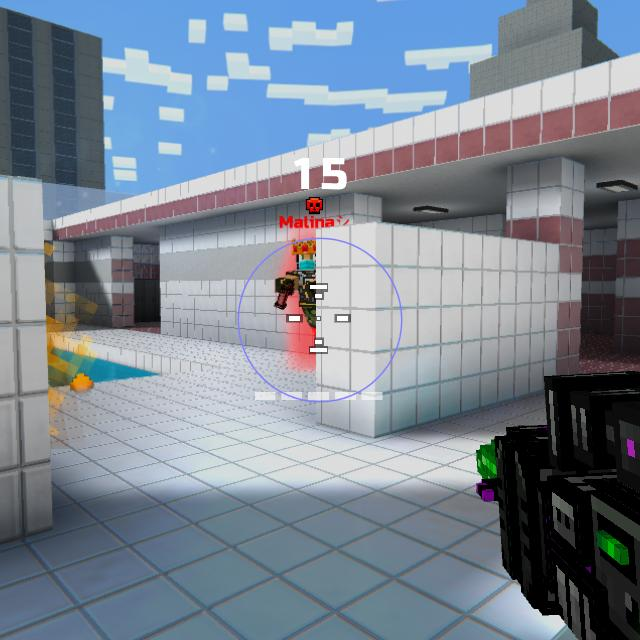Enemy: (276, 238, 318, 364)
